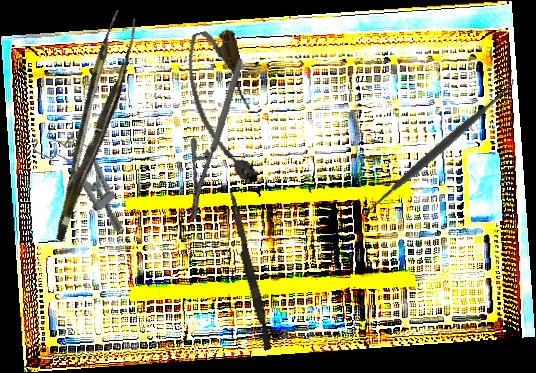Cannula: (179, 24, 269, 192)
Needle Holder: (145, 57, 289, 223)
Pusher: (221, 187, 277, 351)
Spatula Surgical: (353, 74, 524, 226)
Speculum: (27, 115, 144, 239)
Tissue Forceps: (28, 9, 151, 242)
